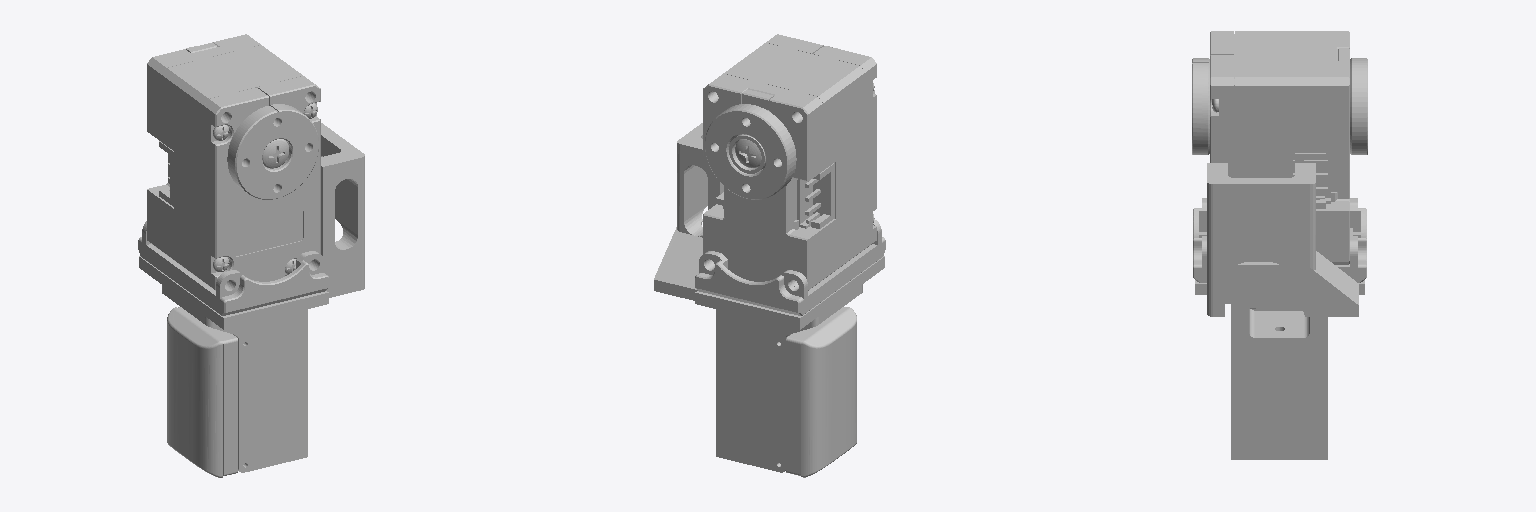
Rendered from thumb_fingertip_paxini_fu.obj.
3 renders of one model, left to right at view 1: azimuth 30°, elevation 25°; view 2: azimuth 150°, elevation 25°; view 3: azimuth 270°, elevation 25°, orthographic.
Parts seen in each view (by area): view 1: thumb_new_zhifu(1); view 2: thumb_new_zhifu(1); view 3: thumb_new_zhifu(1).
Boxes of the visible parts, x1=… form: thumb_new_zhifu(1): x1=138, y1=34, x2=364, y2=477; thumb_new_zhifu(1): x1=654, y1=34, x2=885, y2=477; thumb_new_zhifu(1): x1=1192, y1=31, x2=1367, y2=459.
Bounding box in the file's own units: 0.0285 × 0.0693 × 0.029.